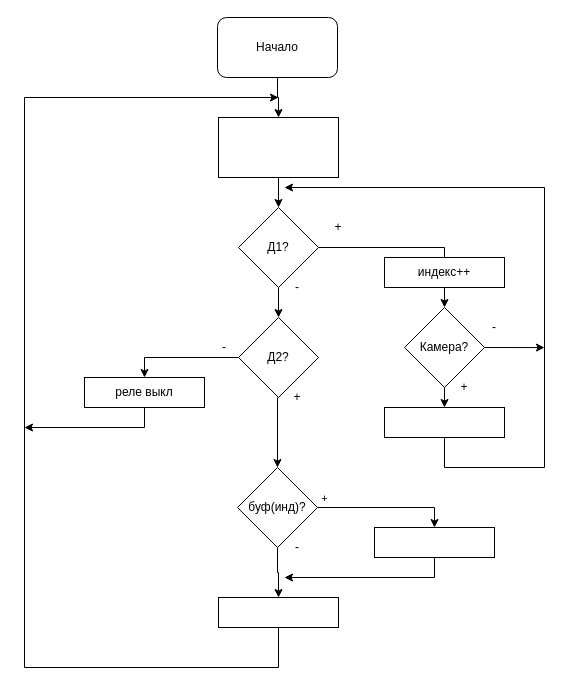
This 570x693 diagram has some shape labels left out. Here are the shapes that lost their labels. From the top down, the centre of each, then its label:
At point 278,147: "Считывание состояния датчиков".
At point 444,422: "буф(инд) = 1".
At point 434,542: "реле вкл".
At point 278,612: "индекс--".
